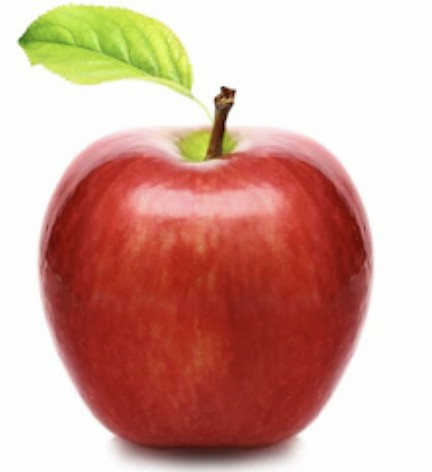fresh_apple: (38, 121, 378, 453)
